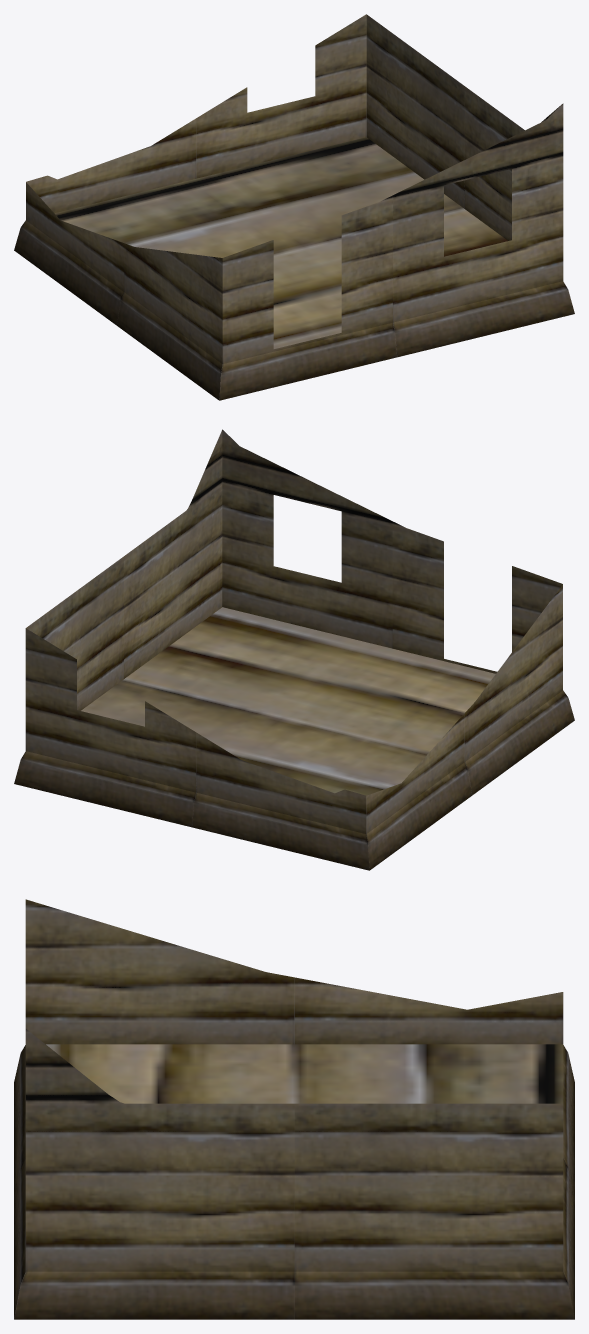
File: s44_b_house_3_1_destroyed_1.dae
3 renders of one model, top to bottom at view 1: azimuth 30°, elevation 25°; view 2: azimuth 150°, elevation 25°; view 3: azimuth 270°, elevation 25°, orthographic. The views are drawn at different scales.
Visible parts, largest first — view 1: s44_b_house_1_1; view 2: s44_b_house_1_1; view 3: s44_b_house_1_1.
Boxes of the visible parts, bbox=[...] form: s44_b_house_1_1: bbox=[14, 14, 574, 400]; s44_b_house_1_1: bbox=[14, 429, 574, 870]; s44_b_house_1_1: bbox=[14, 899, 574, 1319].
Bounding box in the file's own units: 50.11 × 50.11 × 28.2.
Materials: 1 (1 with a texture image).
